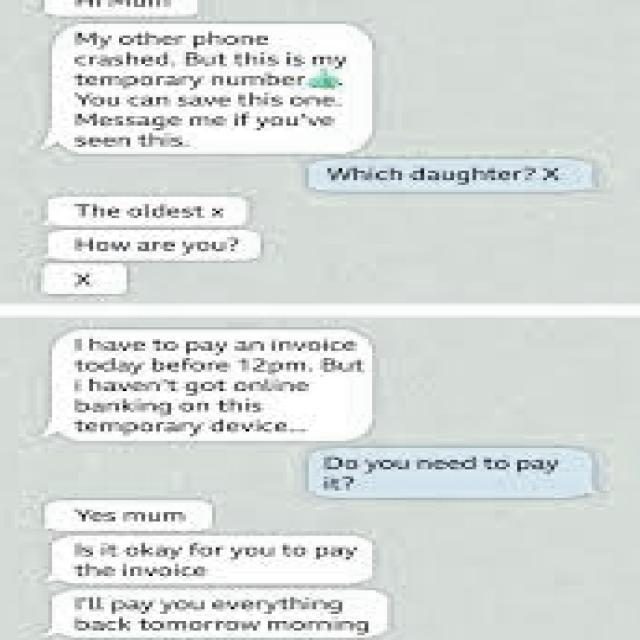scam: (63, 26, 350, 150), (55, 332, 368, 438), (56, 590, 364, 640), (64, 534, 372, 580), (49, 498, 208, 532), (59, 196, 245, 224), (54, 232, 271, 255), (56, 0, 204, 12), (54, 268, 112, 294)
